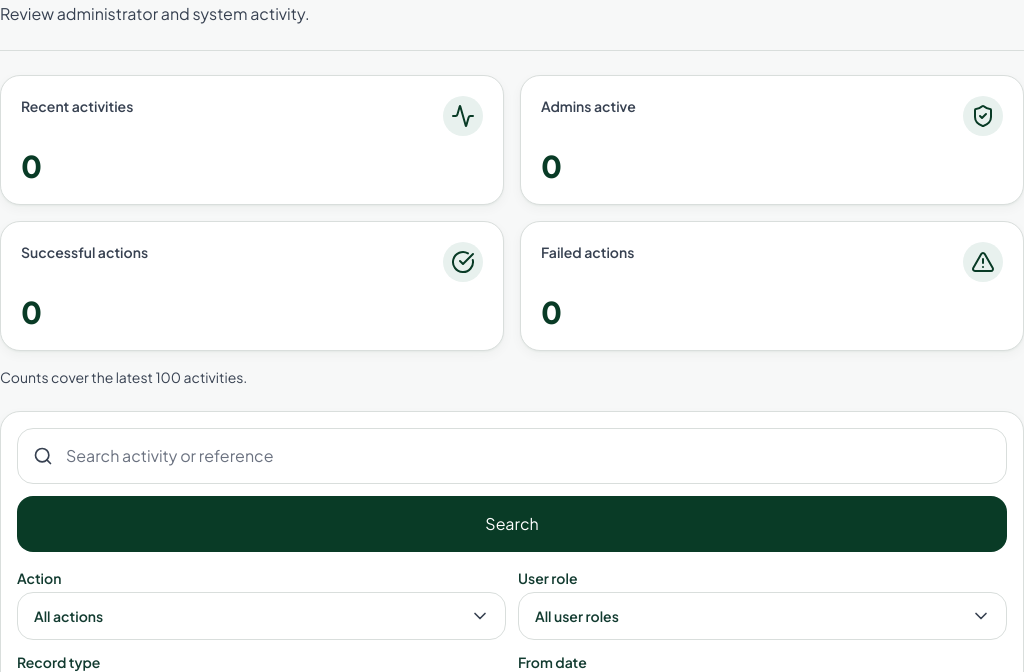
Test case: Admin audit log browser › shows distinct unfiltered and filtered empty states
Step 1. Select "Provider verification approved" in the dropdown labelled "Action" → (262, 616), box [17,592,506,640]
(page scrolled)
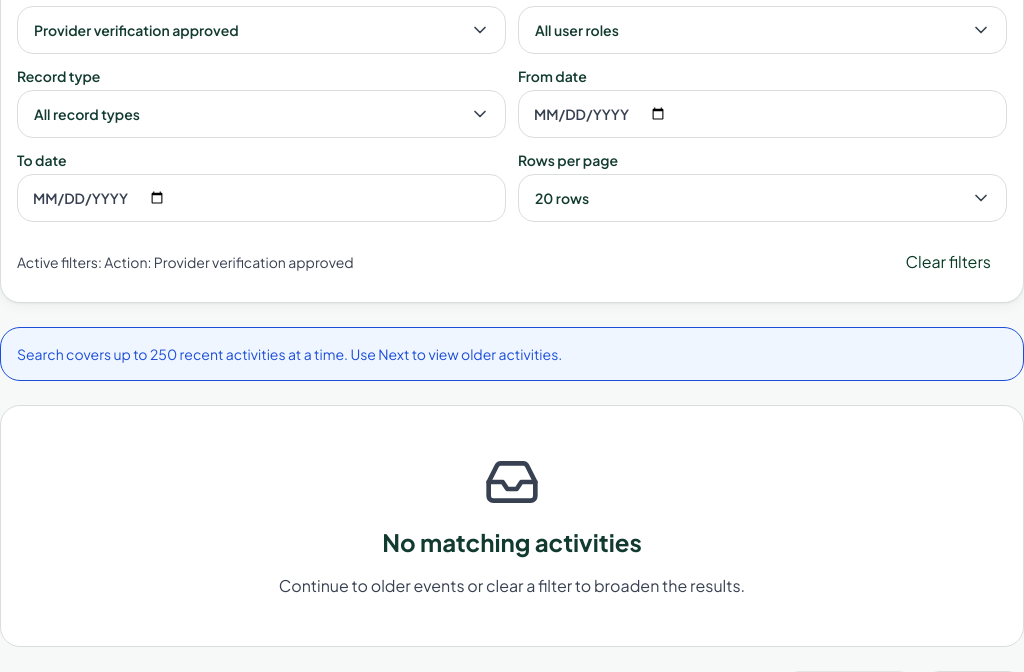
Expected: the heading "No matching activities" is shown, [382,526,642,558]
Expected: the text "up to 250 recent activities" is shown, [0,327,1023,381]
